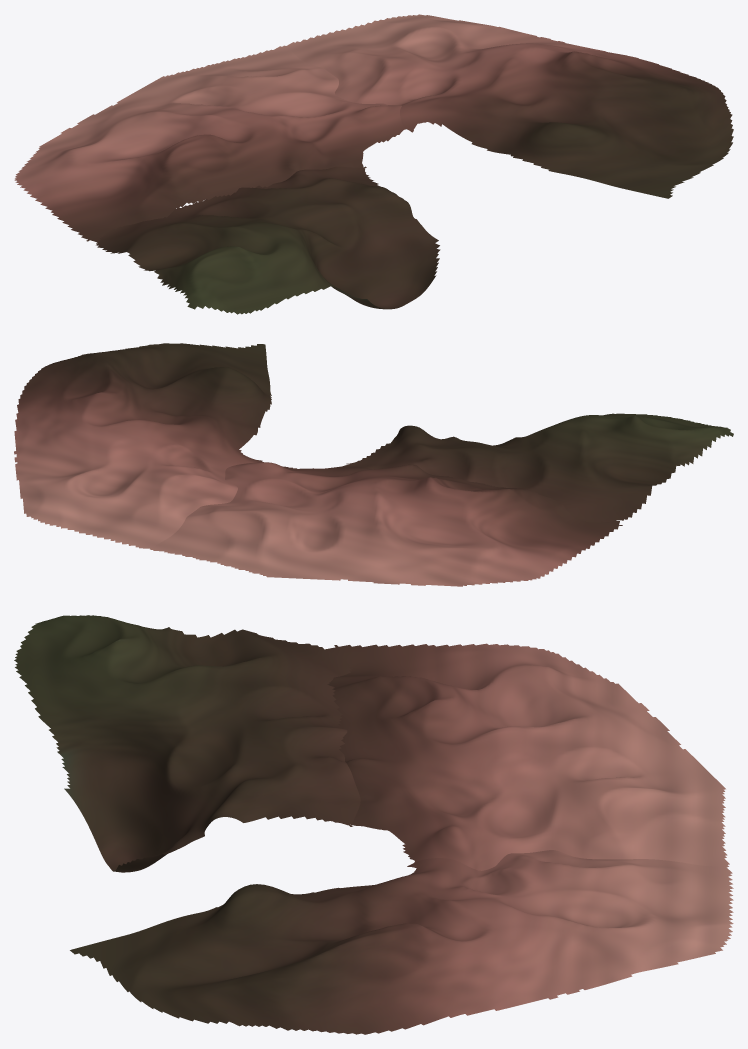
Rendered from montaña03.fbx.
3 views of the same model, one above another, from view 1: azimuth 30°, elevation 25°; view 2: azimuth 150°, elevation 25°; view 3: azimuth 270°, elevation 25° (orthographic). The views are drawn at different scales.
Parts seen in each view (by area): view 1: montaña03; view 2: montaña03; view 3: montaña03.
Boxes of the visible parts, x1,y1,x2,y2 form: montaña03: (14, 14, 733, 314); montaña03: (14, 343, 733, 586); montaña03: (14, 615, 733, 1034).
Size of the model in its own units: 1193 by 174 by 904.
